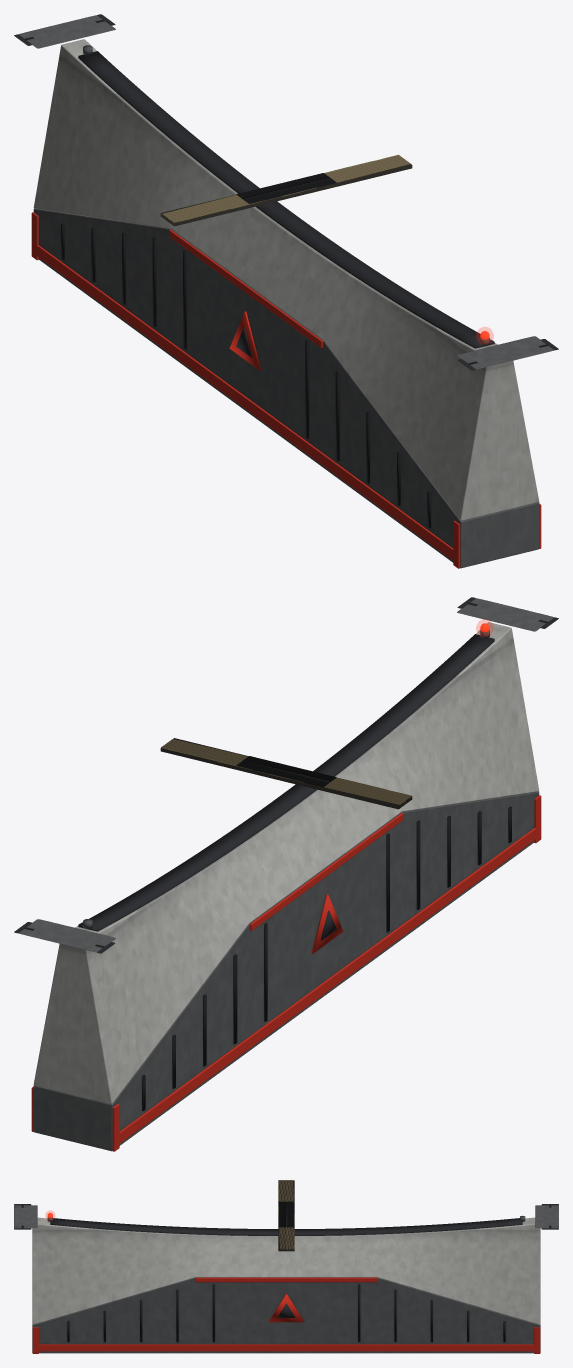
The model's file is NAGATE_B.glb.
3 renders of one model, top to bottom at view 1: azimuth 30°, elevation 25°; view 2: azimuth 150°, elevation 25°; view 3: azimuth 270°, elevation 25°, orthographic. The views are drawn at different scales.
Visible parts, largest first — view 1: Roof, Panel, DoorDetails, CrestCap, Strip, ArmZN, ArmZP; view 2: Roof, Panel, DoorDetails, CrestCap, Strip, ArmZP, ArmZN; view 3: Roof, Panel, DoorDetails, CrestCap, Strip, ArmZN, ArmZP.
Part boxes in pixels (left/top/right/bottom): Roof: left=33, top=39, right=539, bottom=520; Panel: left=33, top=208, right=539, bottom=568; DoorDetails: left=31, top=212, right=541, bottom=568; CrestCap: left=78, top=51, right=494, bottom=348; Strip: left=160, top=154, right=412, bottom=226; ArmZN: left=19, top=15, right=115, bottom=48; ArmZP: left=457, top=336, right=553, bottom=369; Roof: left=33, top=622, right=539, bottom=1103; Panel: left=33, top=791, right=539, bottom=1151; DoorDetails: left=31, top=795, right=541, bottom=1151; CrestCap: left=78, top=634, right=494, bottom=931; Strip: left=160, top=738, right=412, bottom=809; ArmZP: left=457, top=598, right=553, bottom=631; ArmZN: left=19, top=919, right=115, bottom=952; Roof: left=32, top=1217, right=540, bottom=1324; Panel: left=32, top=1277, right=540, bottom=1353; DoorDetails: left=32, top=1277, right=540, bottom=1353; CrestCap: left=50, top=1218, right=522, bottom=1235; Strip: left=278, top=1180, right=294, bottom=1251; ArmZN: left=535, top=1205, right=558, bottom=1228; ArmZP: left=14, top=1205, right=37, bottom=1228.
Size of the model in its own units: 0.9 by 0.797 by 3.
Materials: 12 (4 with a texture image).
